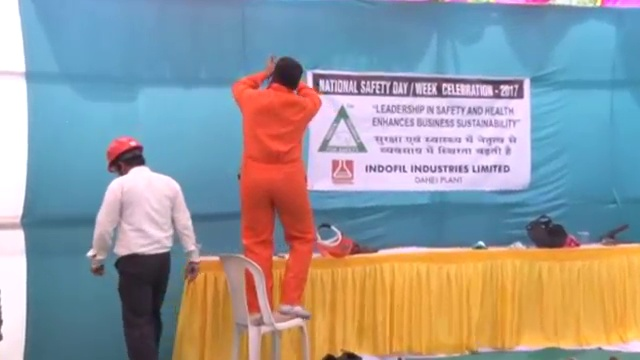helmet: (104, 134, 146, 170)
helmet_off: (270, 54, 301, 89)
helmet_on: (102, 134, 148, 177)
person: (88, 134, 201, 360), (231, 53, 320, 321)
